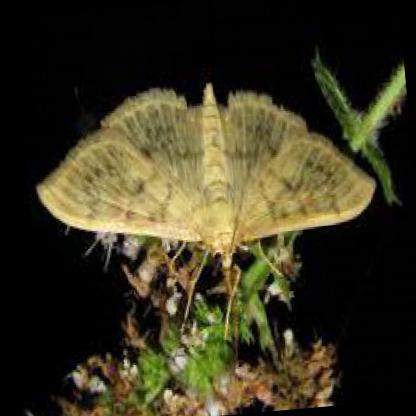Leaf Webber: (34, 75, 375, 275)
